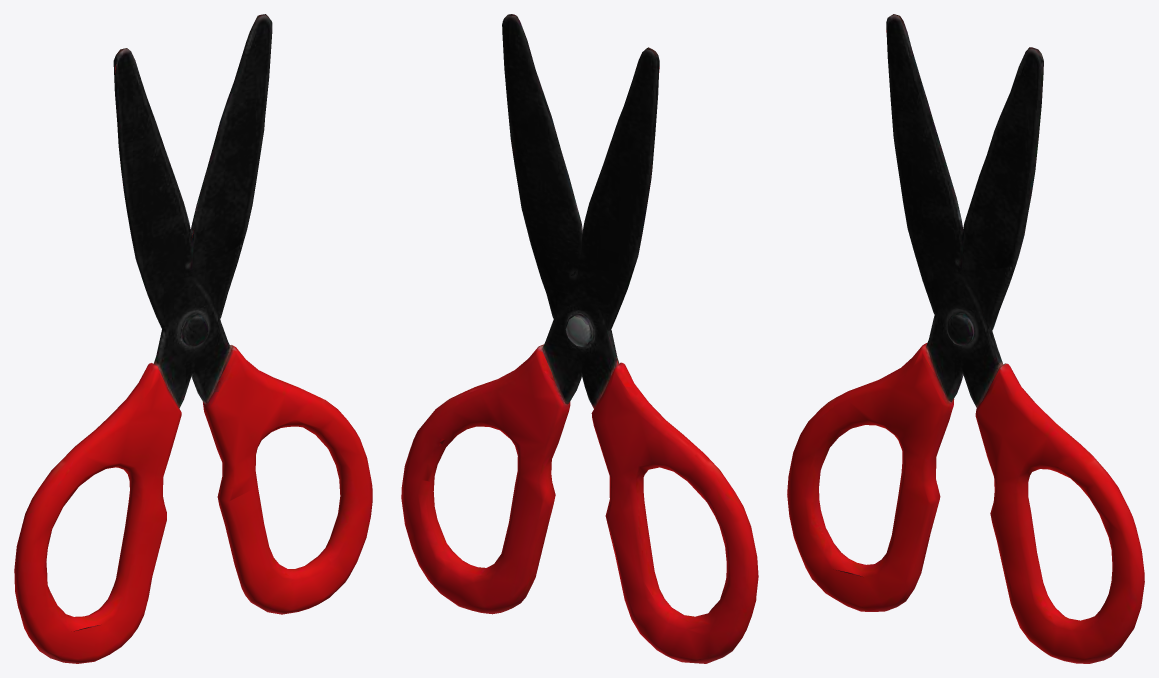
File: scissor.glb
The picture shows the model from 3 angles, left to right: view 1: azimuth 30°, elevation 25°; view 2: azimuth 150°, elevation 25°; view 3: azimuth 330°, elevation 25°; orthographic projection.
Parts seen in each view (by area): view 1: Mesh0; view 2: Mesh0; view 3: Mesh0.
Part boxes in pixels (box(x1,y1,x2,y2)): Mesh0: box(14, 14, 372, 663); Mesh0: box(401, 14, 758, 663); Mesh0: box(787, 14, 1144, 663).
Bounding box in the file's own units: 0.6145 × 1 × 0.0366.
Materials: 1 (1 with a texture image).
